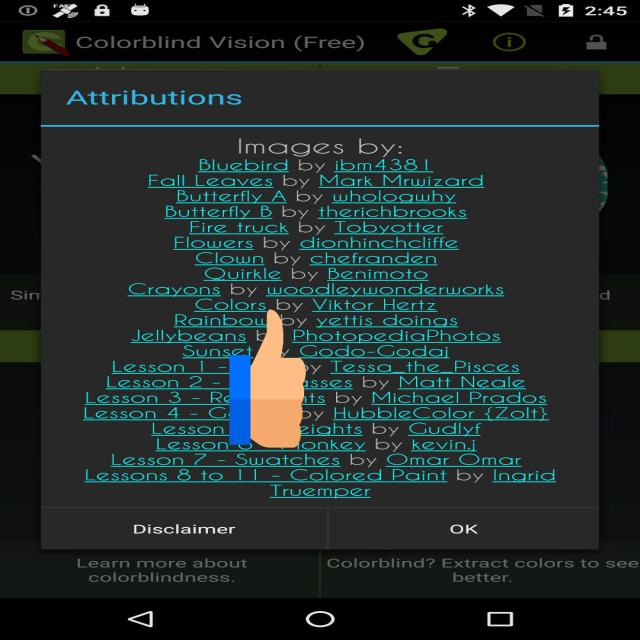privacy zuckering: (229, 306, 306, 451)
